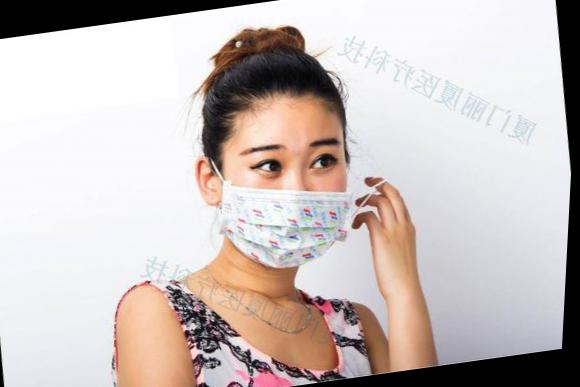WRONG: (209, 117, 369, 277)
